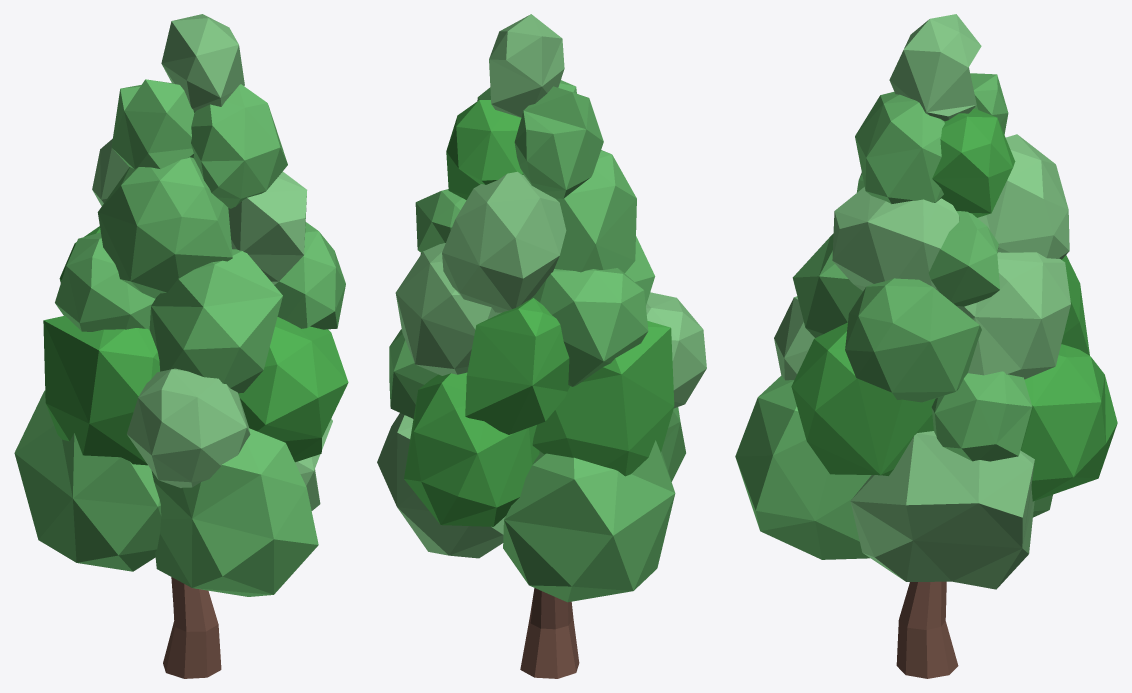
File: fantasy_plant_077.fbx
The picture shows the model from 3 angles, left to right: view 1: azimuth 30°, elevation 25°; view 2: azimuth 150°, elevation 25°; view 3: azimuth 270°, elevation 25°; orthographic projection.
Parts seen in each view (by area): view 1: fantasy_plant.098; view 2: fantasy_plant.098; view 3: fantasy_plant.098.
Part boxes in pixels (<box>): fantasy_plant.098: <box>14,14,348,678</box>; fantasy_plant.098: <box>377,14,706,678</box>; fantasy_plant.098: <box>735,14,1117,678</box>.
Size of the model in its own units: 703 by 1701 by 899.
Materials: 1 (1 with a texture image).
